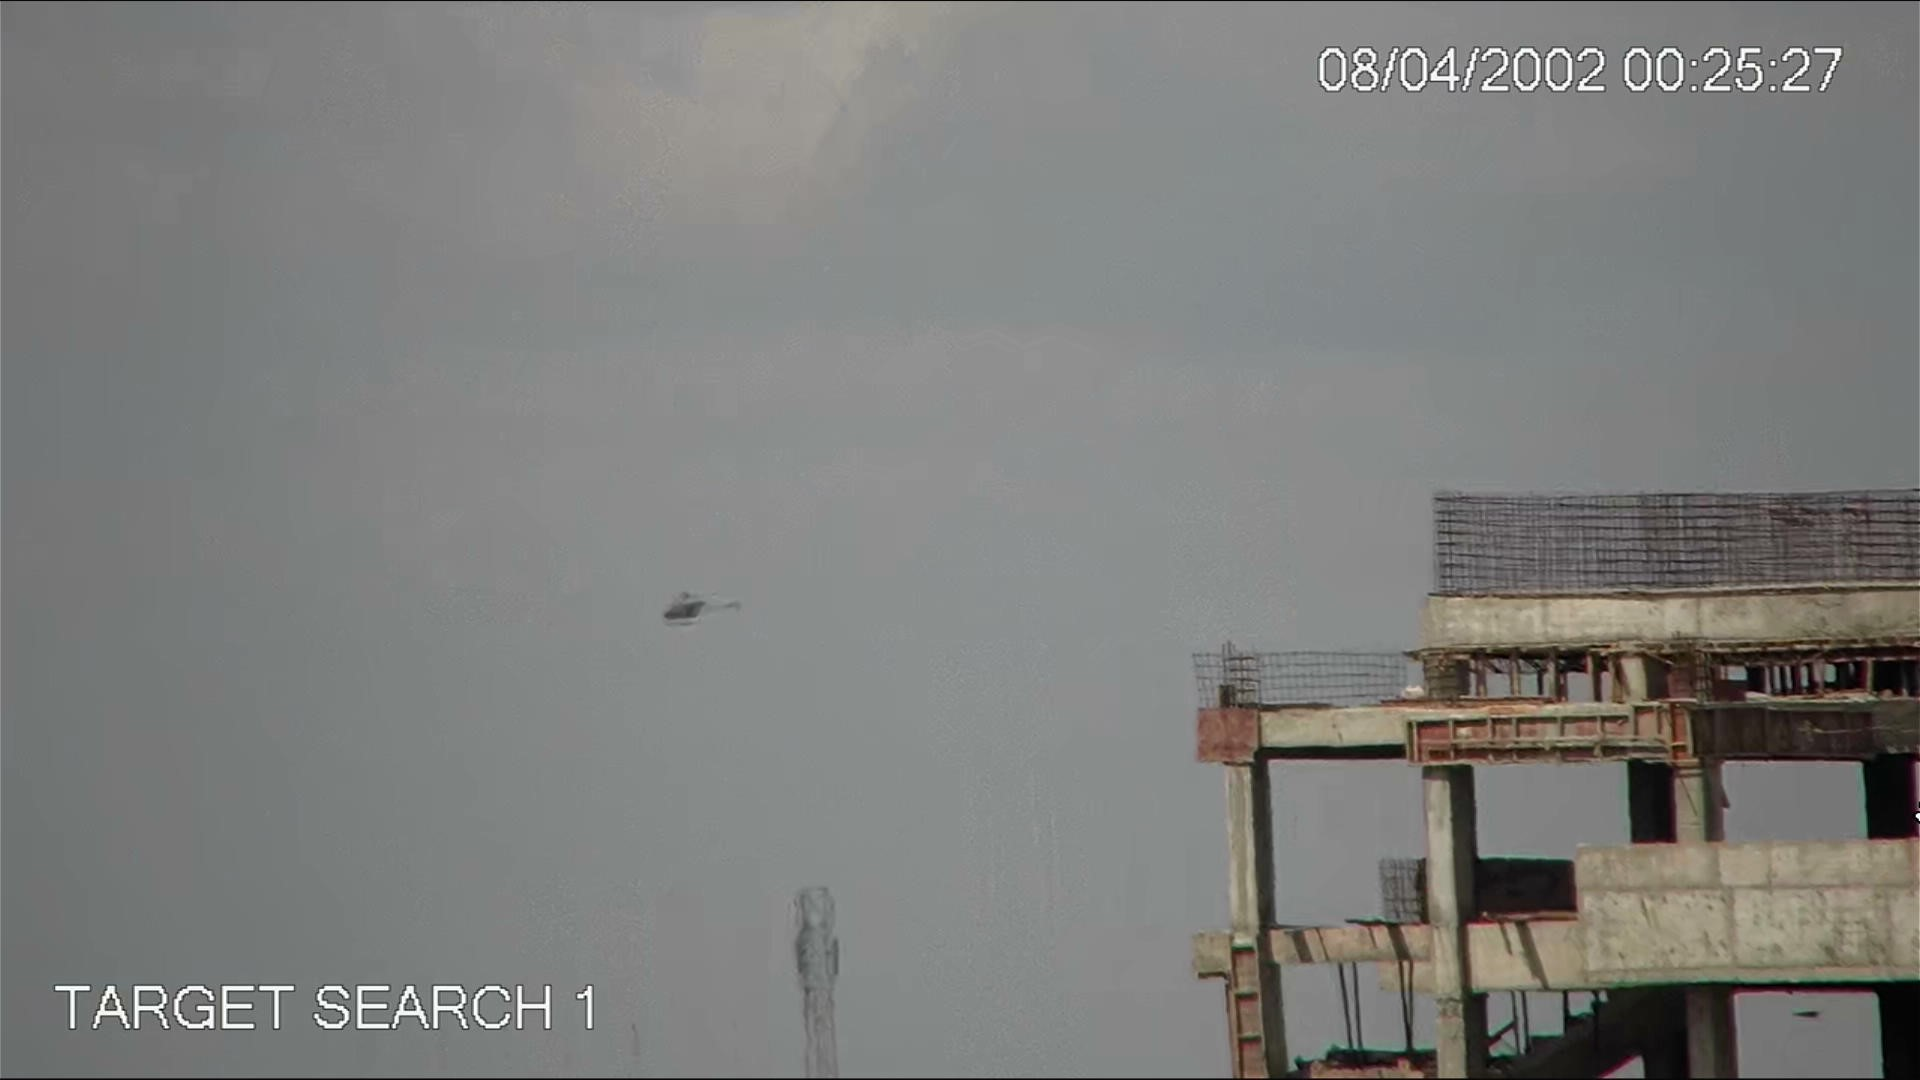SU_30: (659, 585, 742, 626)
